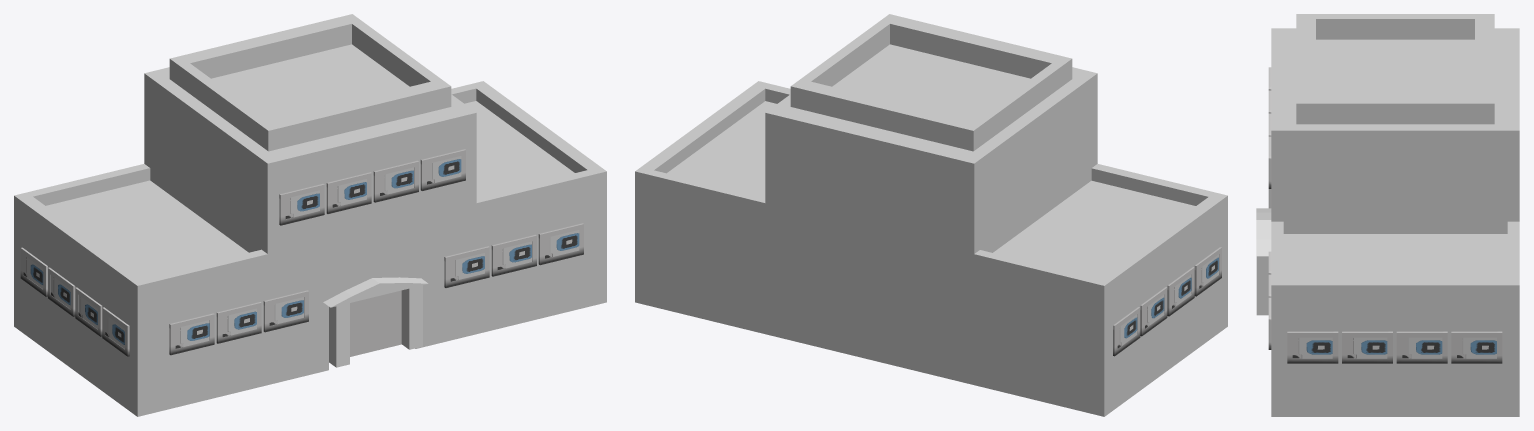
File: school.fbx
3 views of the same model, side by side, from view 1: azimuth 30°, elevation 25°; view 2: azimuth 150°, elevation 25°; view 3: azimuth 270°, elevation 25° (orthographic).
Visible parts, largest first — view 1: Cube, Cube.021, Cube.040, Cube.041, Cube.022, Cube.026, Cube.025, Cube.029, Cube.034, Cube.027, Cube.024, Cube.030 (+6 smaller); view 2: Cube, Cube.032, Cube.033, Cube.035, Cube.031; view 3: Cube, Cube.021, Cube.039, Cube.036, Cube.037, Cube.038.
Part boxes in pixels (box(x1,y1,x2,y2)): Cube: box(14, 14, 606, 416); Cube.021: box(323, 277, 428, 367); Cube.040: box(372, 290, 401, 351); Cube.041: box(350, 297, 372, 356); Cube.022: box(373, 160, 418, 202); Cube.026: box(491, 234, 536, 276); Cube.025: box(538, 223, 583, 265); Cube.029: box(216, 301, 261, 343); Cube.034: box(420, 149, 465, 190); Cube.027: box(263, 290, 308, 332); Cube.024: box(326, 172, 371, 213); Cube.030: box(169, 313, 214, 355); Cube: box(635, 14, 1227, 416); Cube.032: box(1167, 267, 1194, 316); Cube.033: box(1140, 287, 1167, 336); Cube.035: box(1113, 307, 1140, 356); Cube.031: box(1194, 247, 1221, 296); Cube: box(1271, 14, 1519, 416); Cube.021: box(1256, 208, 1271, 315); Cube.039: box(1287, 331, 1338, 363); Cube.036: box(1451, 331, 1502, 363); Cube.037: box(1396, 331, 1447, 363); Cube.038: box(1342, 331, 1392, 363).
Size of the model in its own units: 2417 by 1177 by 1154.
